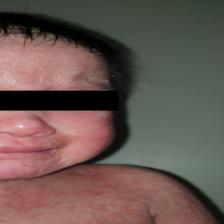DA: (66, 116, 114, 156)
